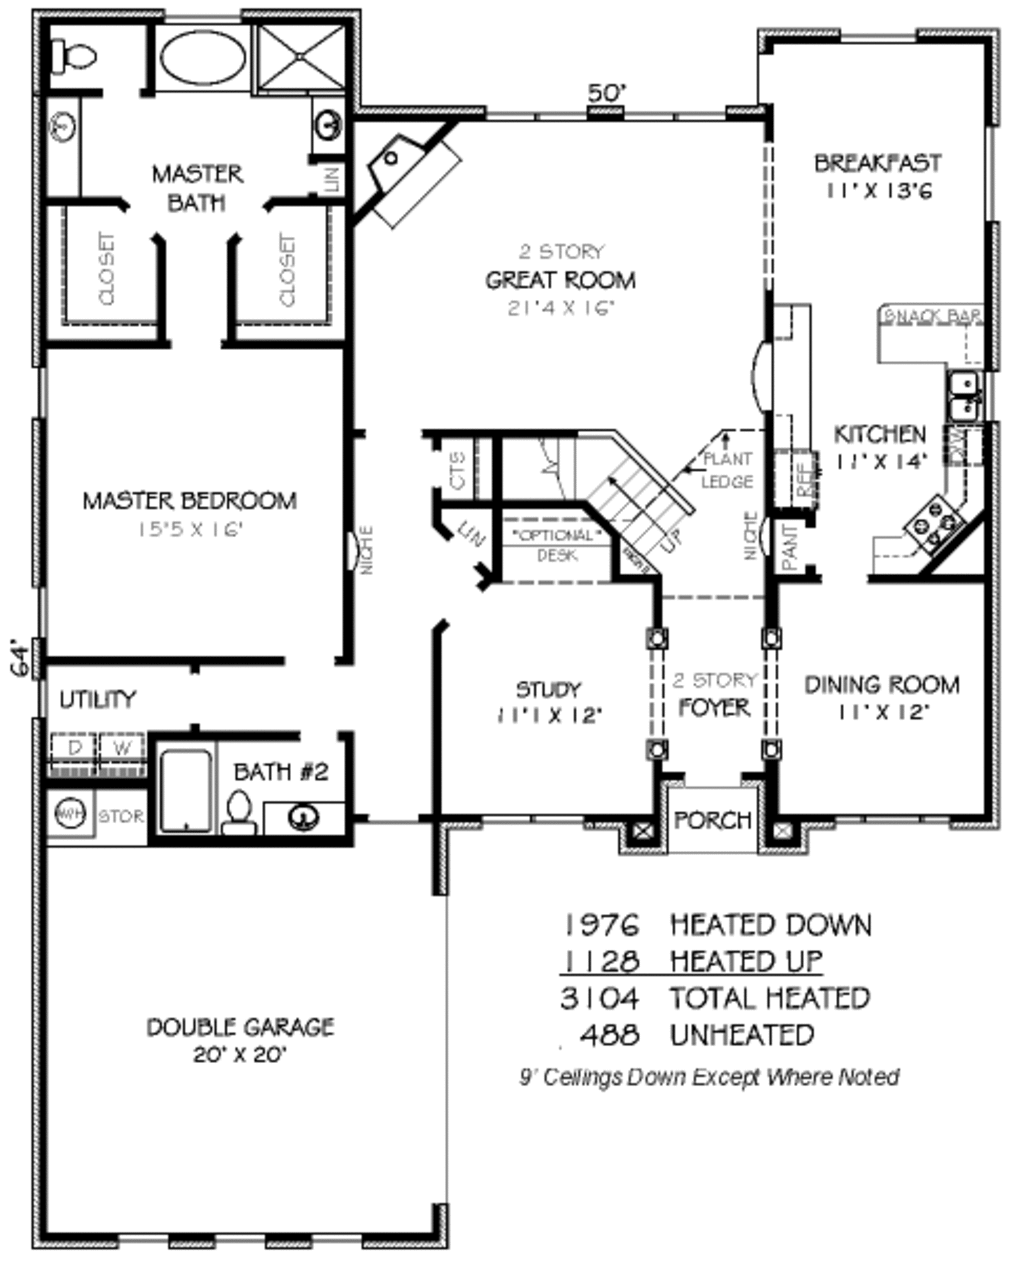large_sink: (50, 33, 113, 84), (215, 786, 260, 845)
small_sink: (40, 102, 89, 192), (297, 94, 348, 157), (272, 796, 338, 835)
stairs: (525, 431, 715, 576)
tub: (150, 21, 250, 102), (152, 739, 225, 843)
twin_sink: (907, 347, 991, 443)
window: (621, 94, 736, 131), (487, 100, 587, 135), (978, 117, 1009, 219), (485, 807, 583, 829)
